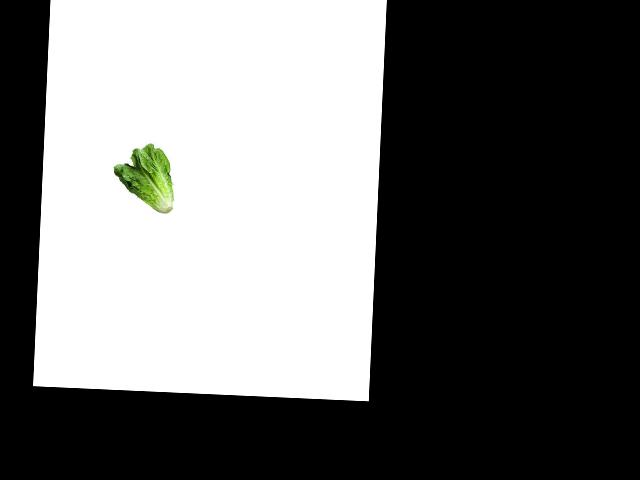lettuce: (108, 142, 179, 211)
